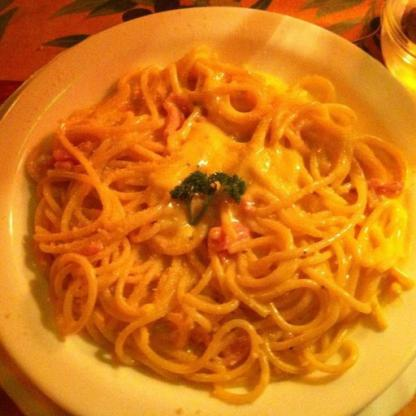pasta: (27, 62, 400, 392)
